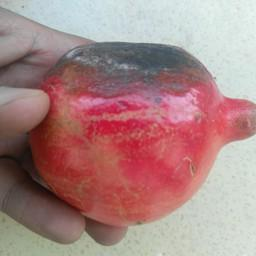Bad_pomegranate: (60, 37, 253, 208)
